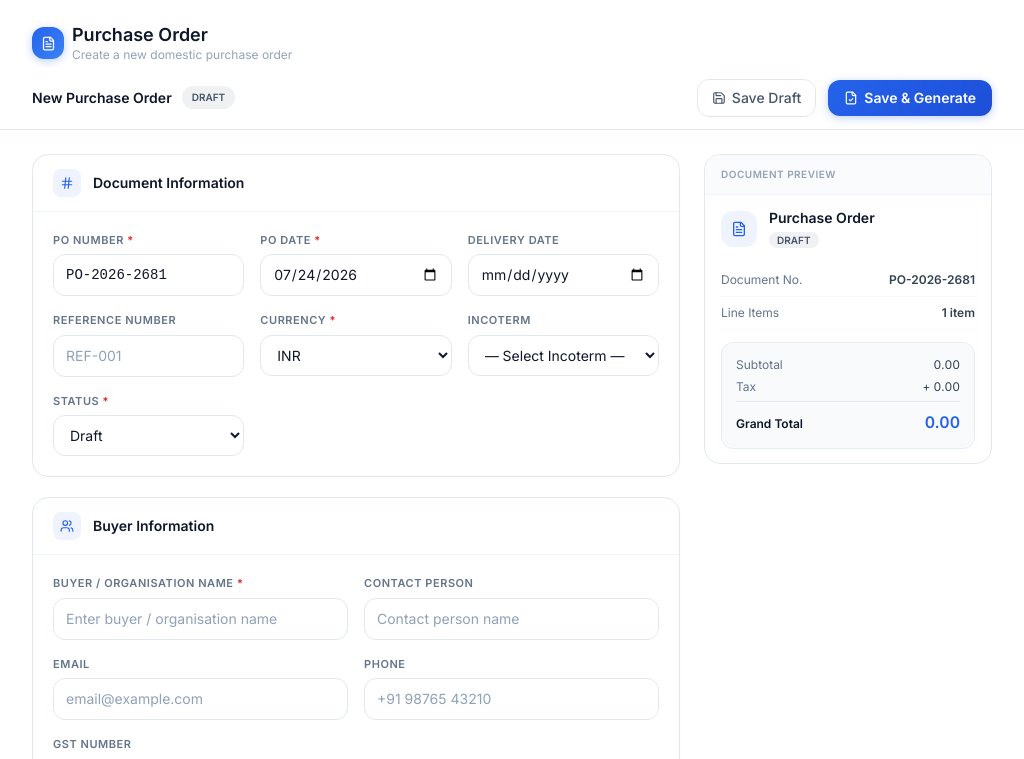
PurchaseOrderPage › shows validation errors for required fields on submit
Clear the field named "poNumber" at (149, 275), box [53,254,244,296]
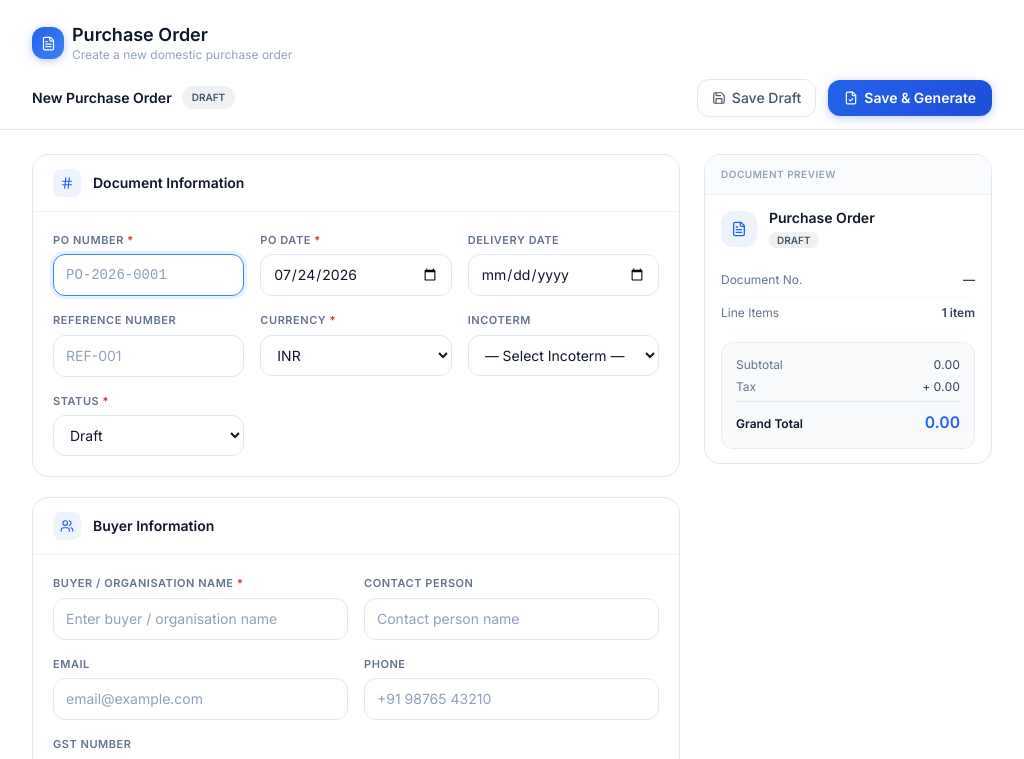
Click the button "Save & Generate" at (910, 98), box [828,80,992,116]
(page scrolled)
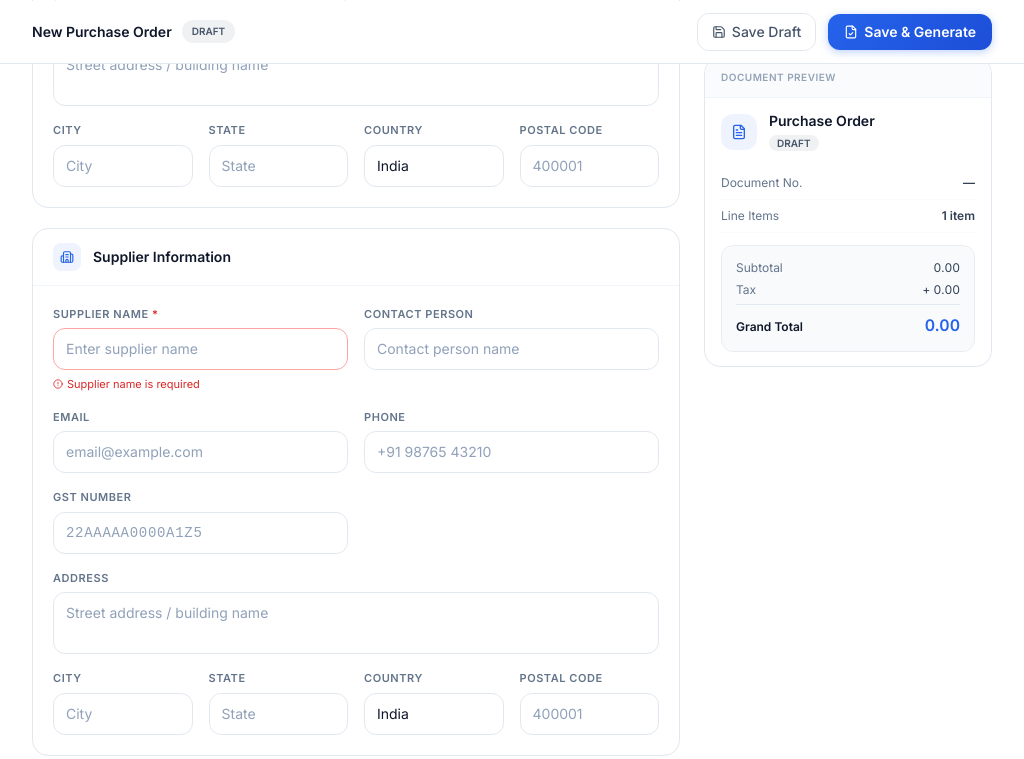
Expected: the text "Supplier name is required" is shown, [53,377,200,391]
